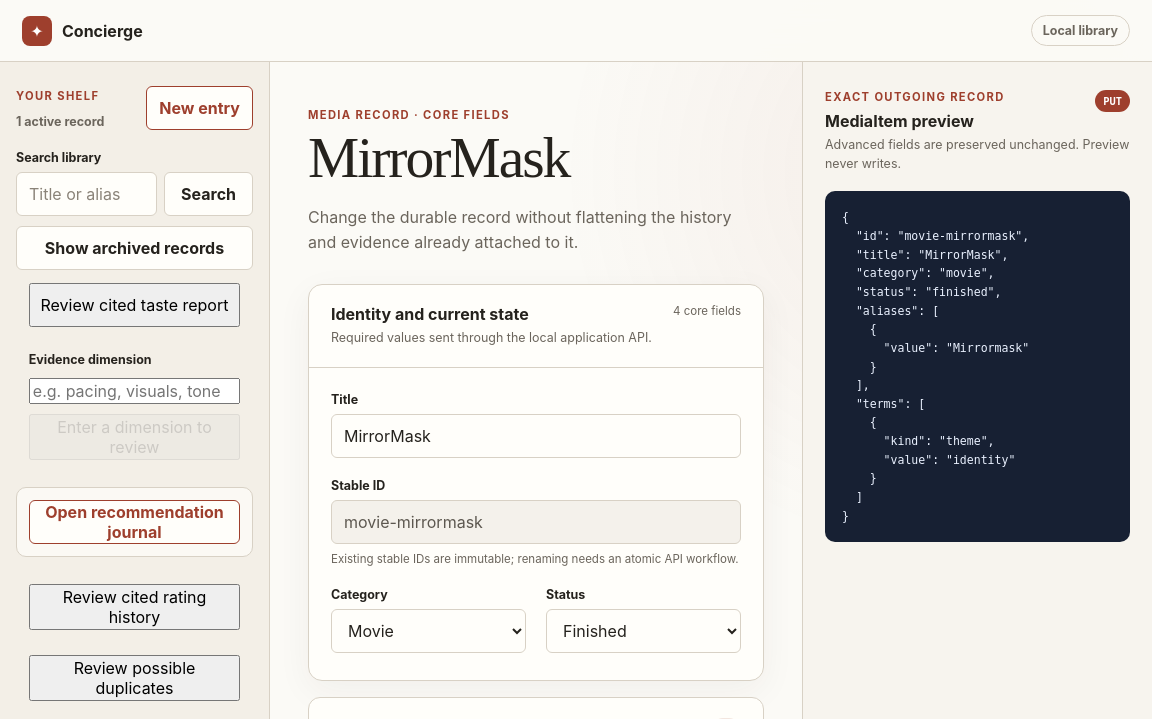
Test: opens a pristine new-entry draft without weakening existing ID immutability
The width and height of the screenshot is (1152, 719).
Click the button "New entry": {"x": 200, "y": 108} [146,86,253,130]
(page scrolled)
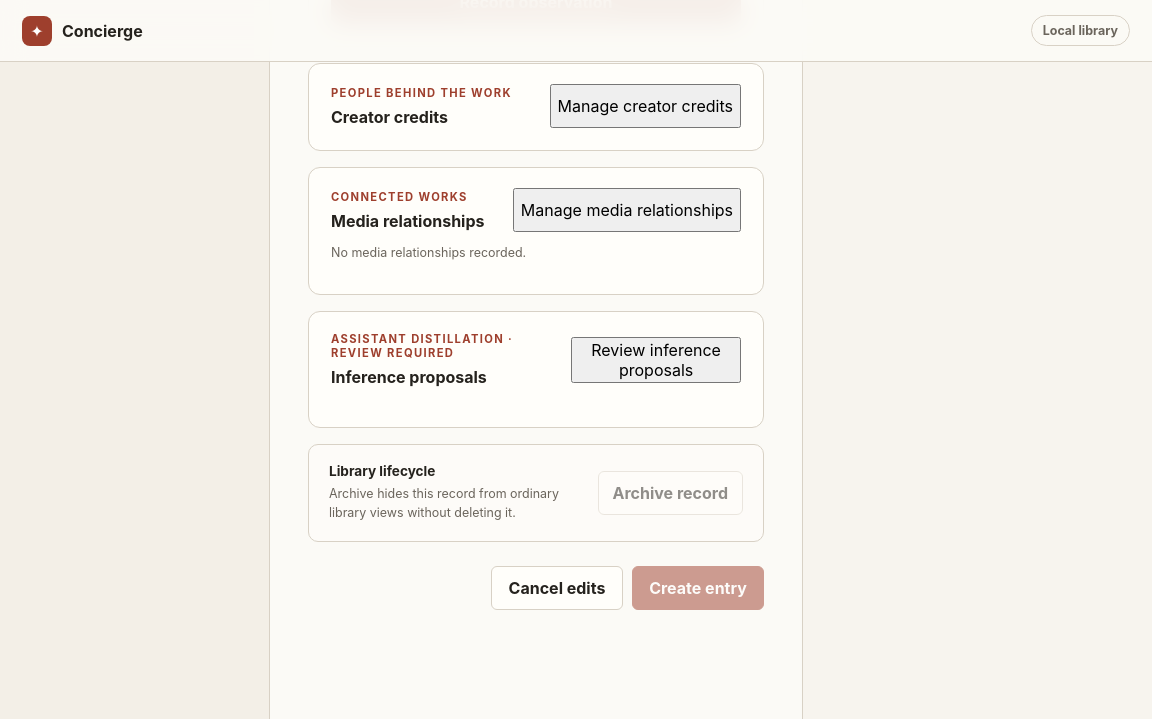
Expected: the button "Create entry" is disabled, [632,566,764,610]
Result: the button "Cancel edits" is enabled at [491,566,623,610]
